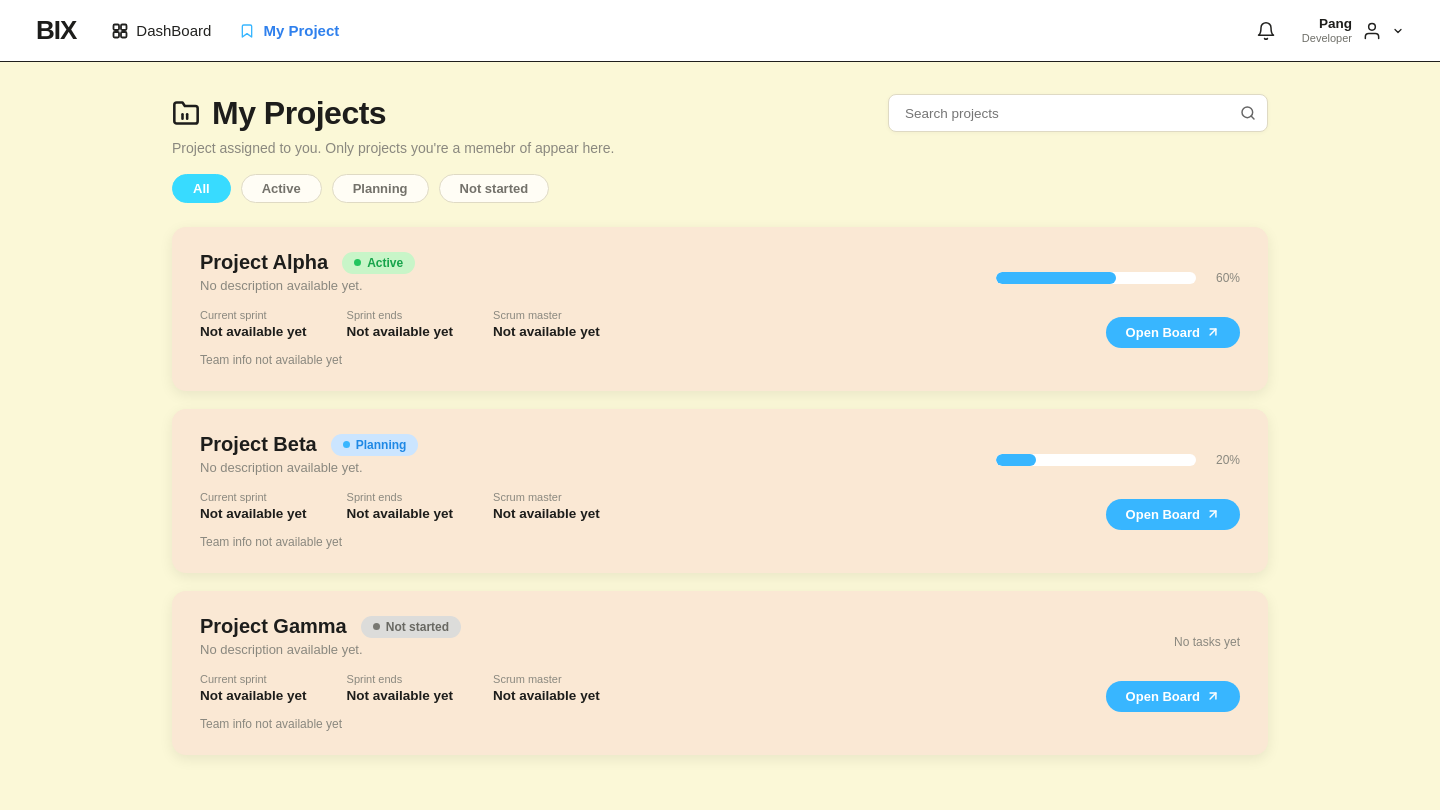
it: MyProjects page › filters project cards when clicking status filter buttons
Expected: the heading "Project Alpha" is shown, [200,251,328,274]
Click the button "Planning".
click(380, 188)  # box [332,174,429,203]
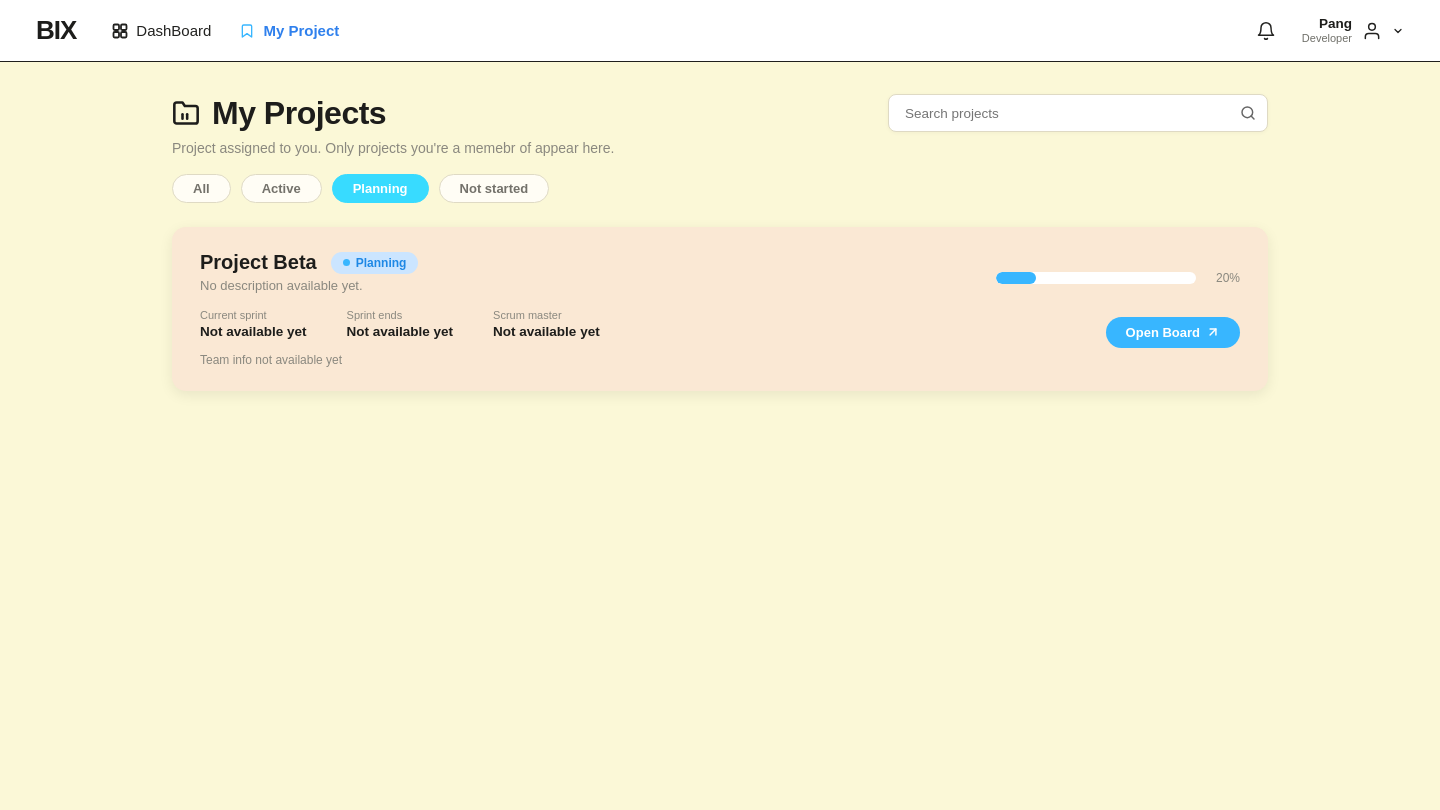
Expected: the heading "Project Beta" is shown, [200,251,317,274]
Expected: the heading "Project Alpha" is gone
Expected: the heading "Project Gamma" is gone
